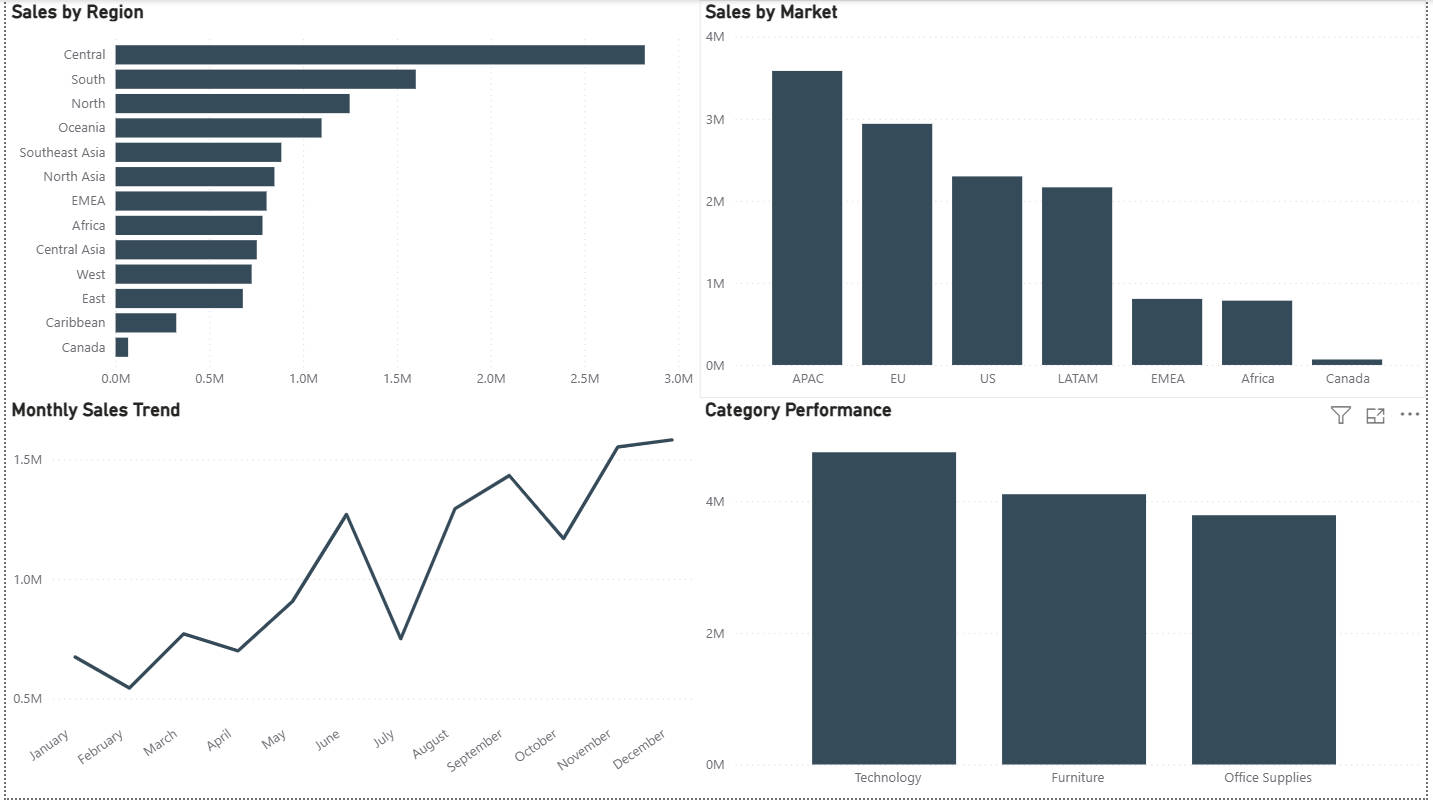

Layout of this report page (visuals, bound fields, positions):
{"tool":"powerbi","page":{"name":"Sales Analysis","canvas":[1280,720],"ordinal":1},"visuals":[{"type":"clusteredBarChart","title":"Sales by Region","fields":{"Y":["Sum(Dataset, L1 Task 1.sales)"],"Category":["Dataset, L1 Task 1.region"]},"box":[0,0,625.4,360],"z":0},{"type":"lineChart","title":"Monthly Sales Trend","fields":{"Category":["Dataset, L1 Task 1.order_date.Variation.Date Hierarchy.Month"],"Y":["Sum(Dataset, L1 Task 1.sales)"]},"box":[0,360,625.4,360],"z":1},{"type":"clusteredColumnChart","title":"Category Performance","fields":{"Category":["Dataset, L1 Task 1.category"],"Y":["Sum(Dataset, L1 Task 1.sales)"]},"box":[625.4,360,654.6,360],"z":2},{"type":"clusteredColumnChart","title":"Sales by Market","fields":{"Category":["Dataset, L1 Task 1.market"],"Y":["Sum(Dataset, L1 Task 1.sales)"]},"box":[625.4,0,654.6,359.3],"z":3}]}

Visuals, with their boxes in screenshot pixels (x1, y1, x2, y2), scaled from the page's 1280x720 canvas onto the 1433x801 screenshot:
"Sales by Region" clusteredBarChart: 0 0 700 400
"Monthly Sales Trend" lineChart: 0 400 700 800
"Category Performance" clusteredColumnChart: 700 400 1432 800
"Sales by Market" clusteredColumnChart: 700 0 1432 400
